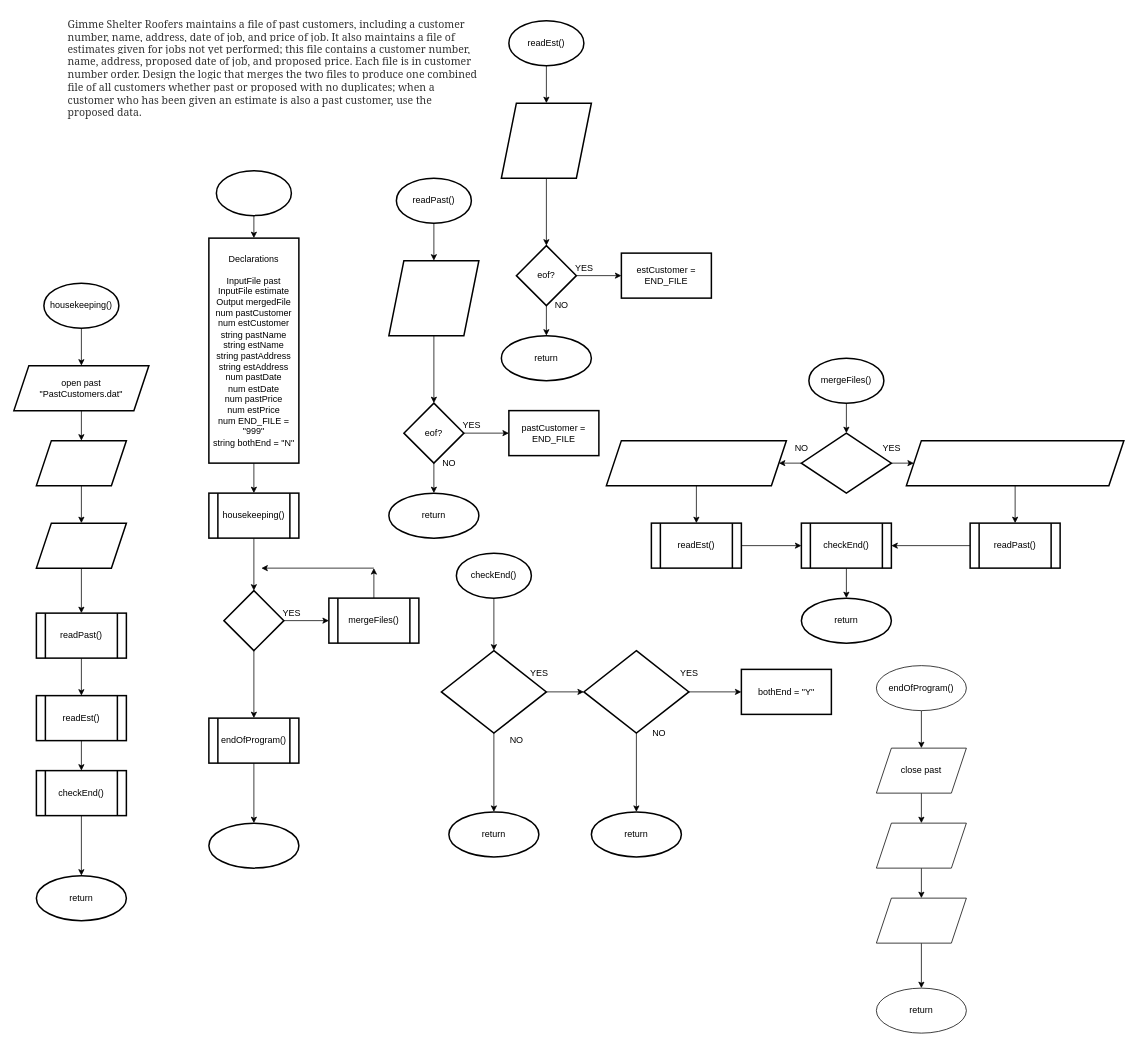
The diagram is 1137 pixels wide and 1046 high, and some of its shapes have lost their labels. The shapes that lost their labels are listed below. From the top down, each one's box as (x1, y1, x2, y2) in pixels, then its label:
(500, 102, 592, 178): input estCustomer, estName, estAddress, estDate, estPrice
(215, 170, 292, 216): start
(388, 260, 479, 336): input pastCustomer, pastName, pastAddress, pastDate, pastPrice
(35, 440, 127, 486): open estimate "Estimates.dat"
(605, 440, 787, 486): output estCustomer, estName, estAddress, estDate, estPrice to mergedFile
(800, 432, 892, 494): pastCustomer < estCustomer
(905, 440, 1124, 486): output pastCustomer, pastName, pastAddress, pastDate, pastPrice to mergedFile
(35, 522, 127, 568): open mergedFile "Customers.dat"
(223, 590, 284, 651): bothEnd <>"Y"
(440, 650, 547, 734): pastCustomer == END_FILE
(583, 650, 689, 734): estCustomer == END_FILE
(208, 822, 299, 868): stop
(876, 822, 966, 868): close estimate
(876, 897, 966, 943): close mergedFile
